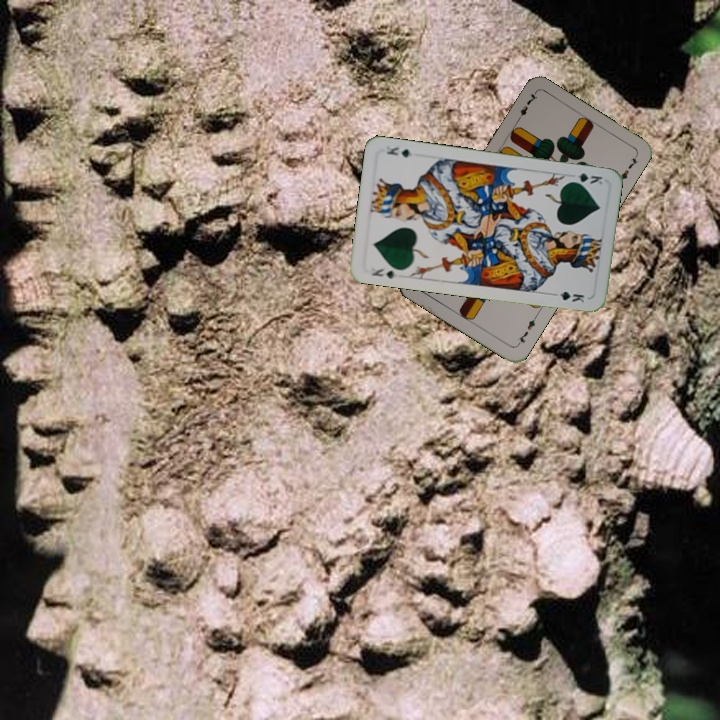E7: (512, 89, 540, 125), (513, 312, 540, 348)
GK: (565, 169, 605, 187), (367, 263, 401, 281)
